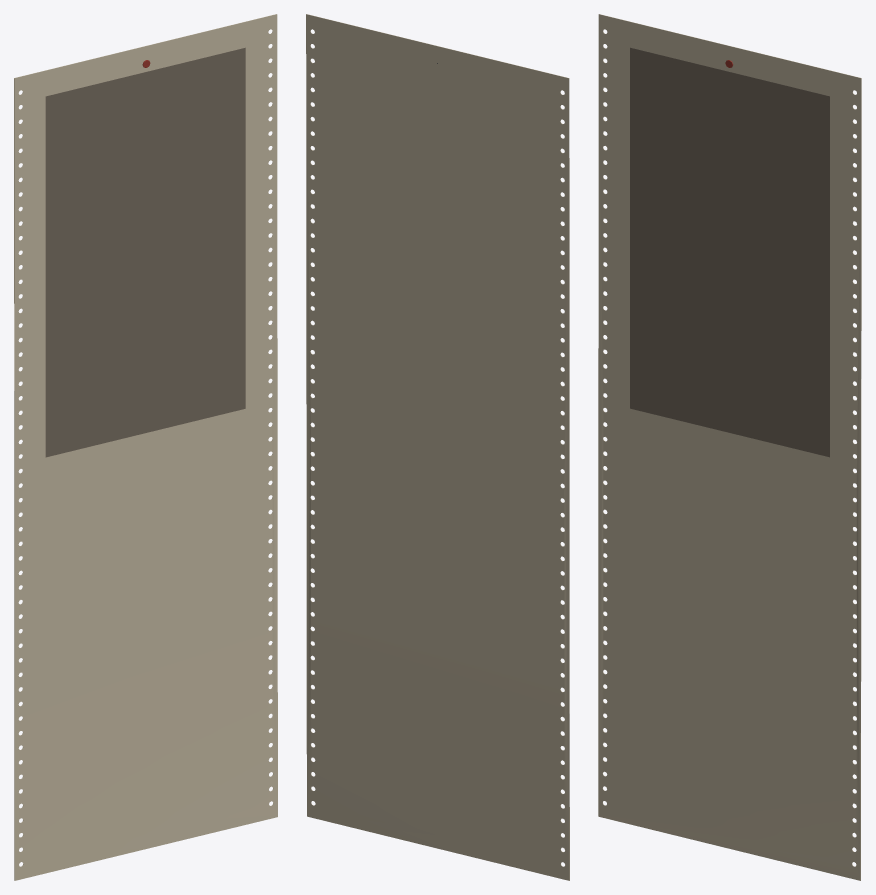
File: chart-printout-bbc6005e096c.glb
3 renders of one model, left to right at view 1: azimuth 30°, elevation 25°; view 2: azimuth 150°, elevation 25°; view 3: azimuth 330°, elevation 25°, orthographic.
Visible parts, largest first — view 1: paper, cover-print; view 2: paper; view 3: paper, cover-print.
Boxes of the visible parts, left/top/right/bottom form: paper: left=14, top=14, right=277, bottom=880; cover-print: left=45, top=47, right=245, bottom=457; paper: left=306, top=14, right=569, bottom=880; paper: left=598, top=14, right=861, bottom=880; cover-print: left=630, top=47, right=829, bottom=457.
Size of the model in its own units: 0.24 by 0.7 by 0.00209.
